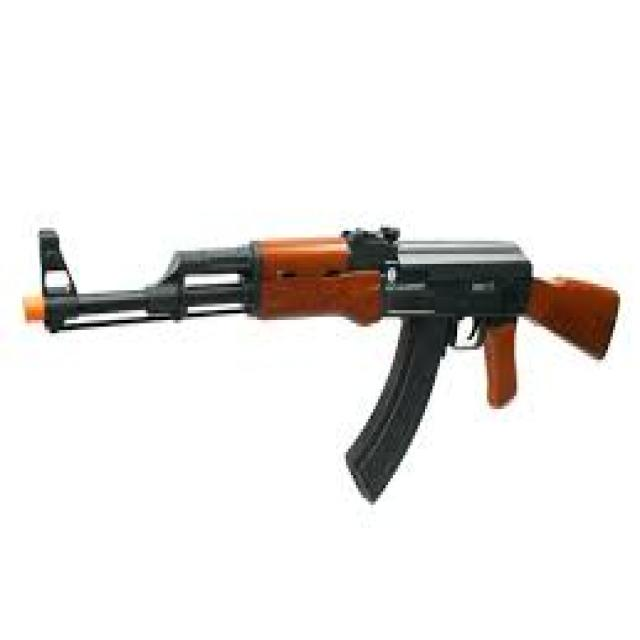rifle: (11, 219, 630, 522)
